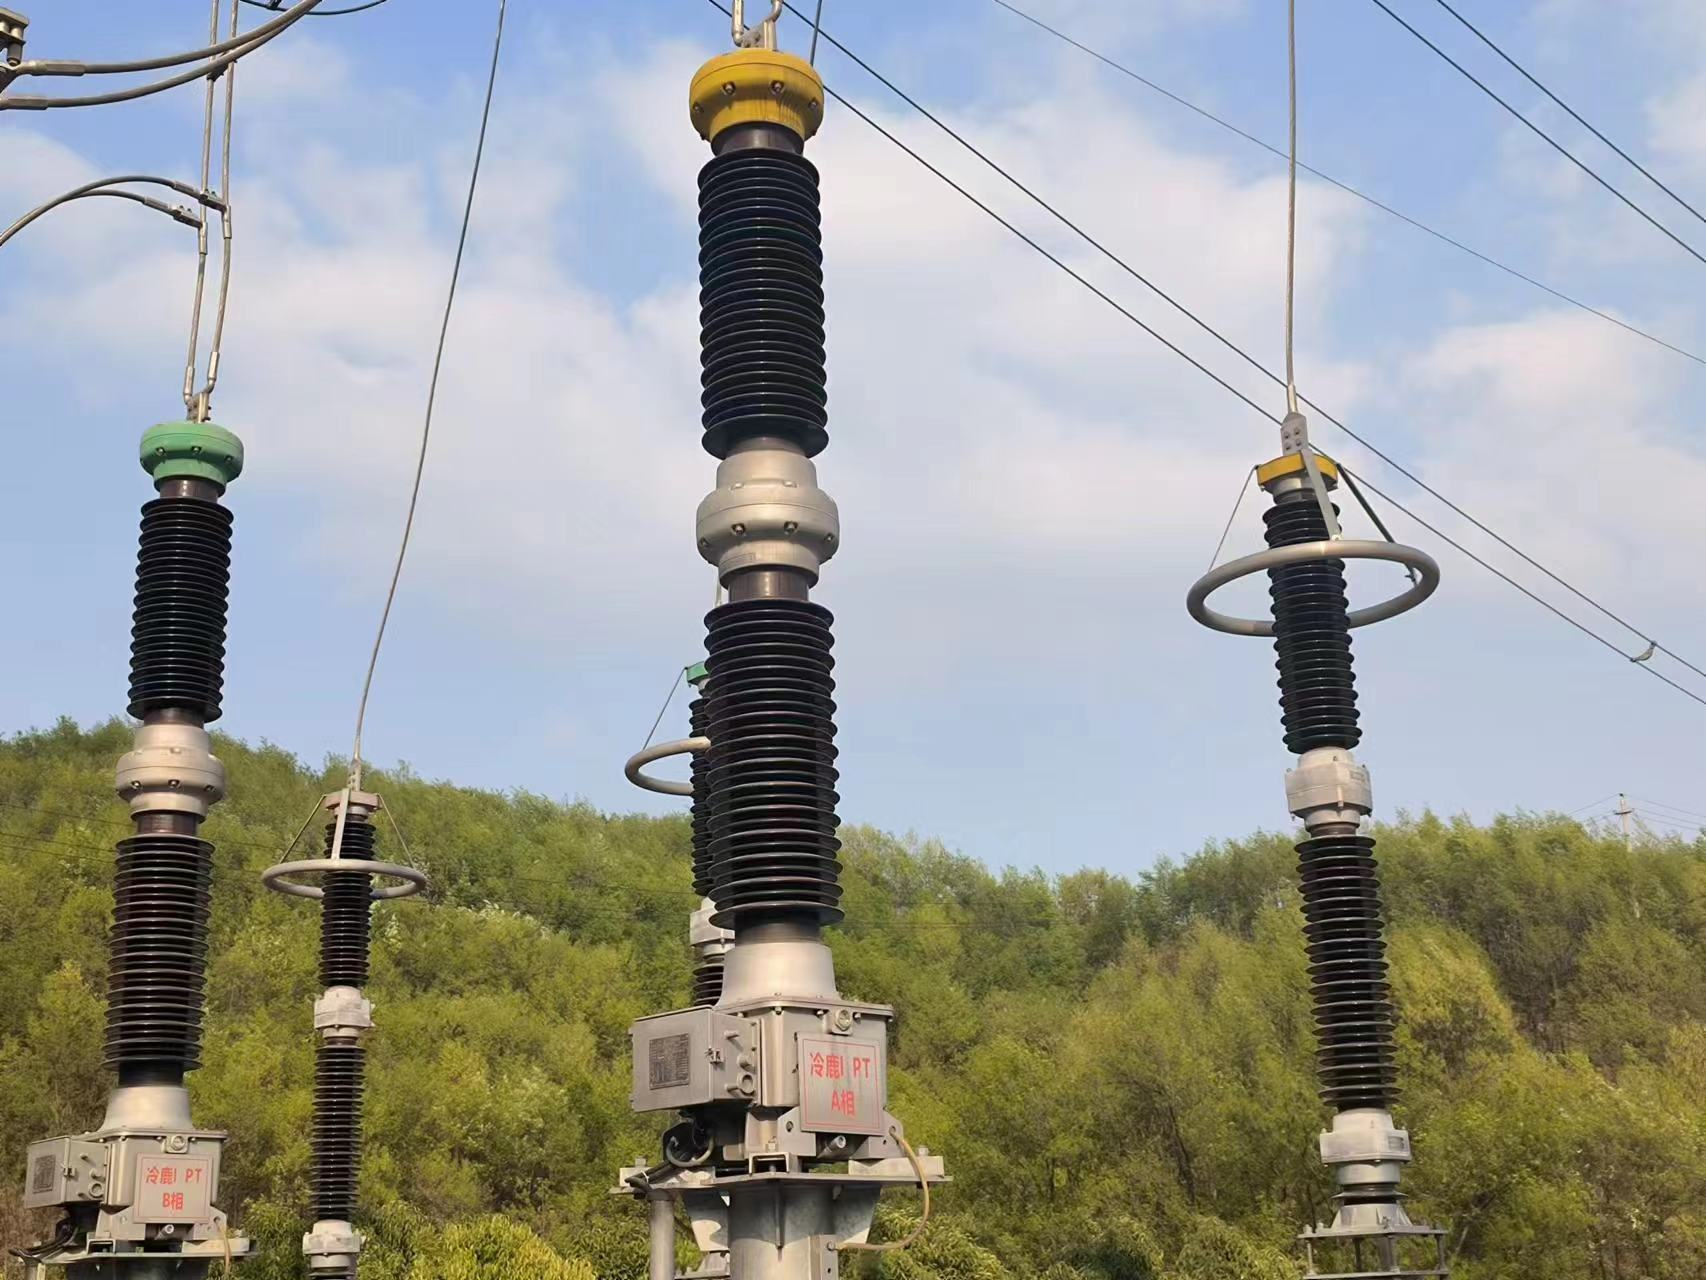Arrester: (1184, 450, 1443, 1229), (255, 791, 432, 1269)
